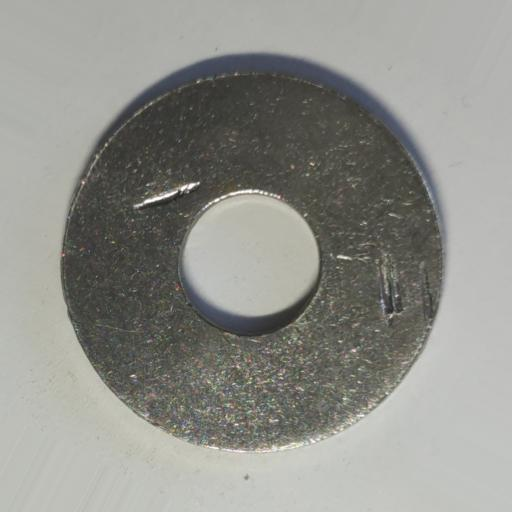scratch: (131, 179, 202, 213), (377, 252, 404, 326), (418, 261, 435, 326)
